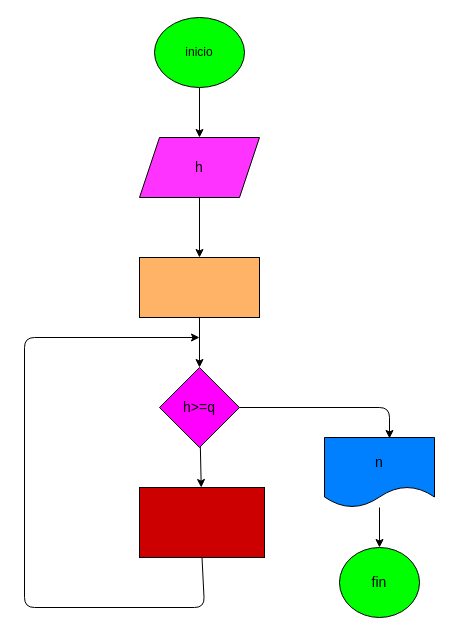
The diagram is 452 pixels wide and 635 high, and some of its shapes have lost their labels. Here are the shapes that lost their labels. From the top down, the centre of each, then its label:
At point 199,287: "q= h/i n=0".
At point 201,522: "h= 0.9*h n= n+1".
